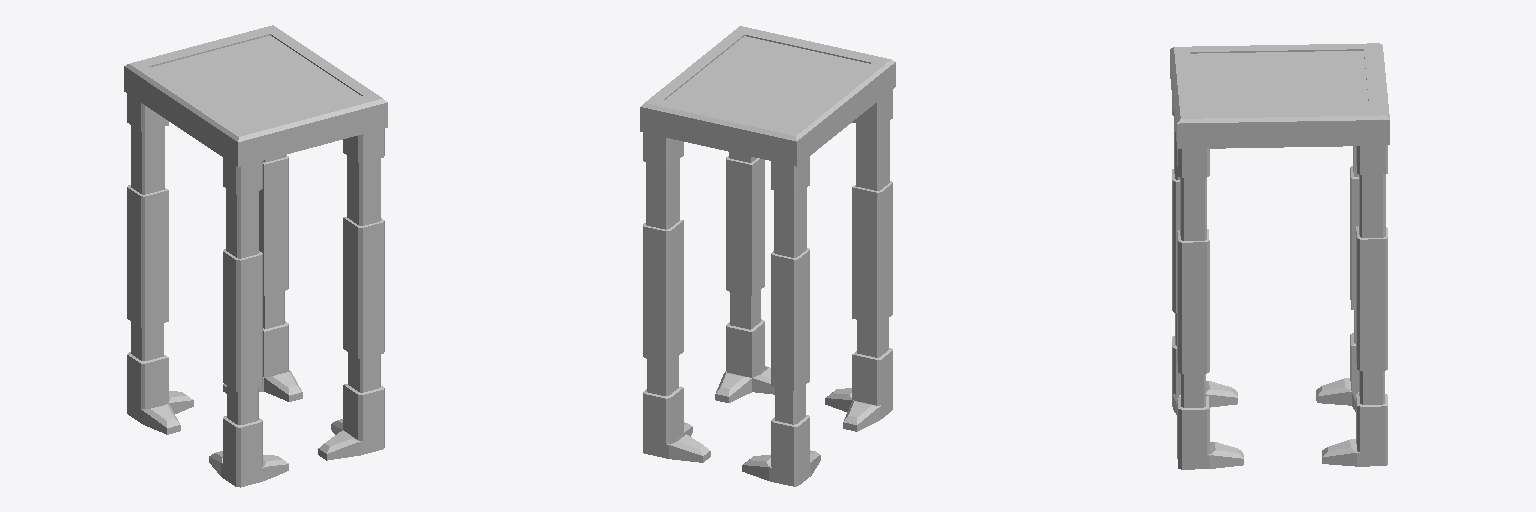
File: Final_TablePos4.obj
The picture shows the model from 3 angles: view 1: azimuth 30°, elevation 25°; view 2: azimuth 150°, elevation 25°; view 3: azimuth 270°, elevation 25°; orthographic projection.
Visible parts, largest first — view 1: Final_TablePos4:pPlane2; view 2: Final_TablePos4:pPlane2; view 3: Final_TablePos4:pPlane2.
Part boxes in pixels (left/top/right/bottom): Final_TablePos4:pPlane2: left=124, top=25, right=387, bottom=487; Final_TablePos4:pPlane2: left=640, top=26, right=895, bottom=486; Final_TablePos4:pPlane2: left=1170, top=43, right=1389, bottom=469.
Bounding box in the file's own units: 50.72 × 106 × 60.18.